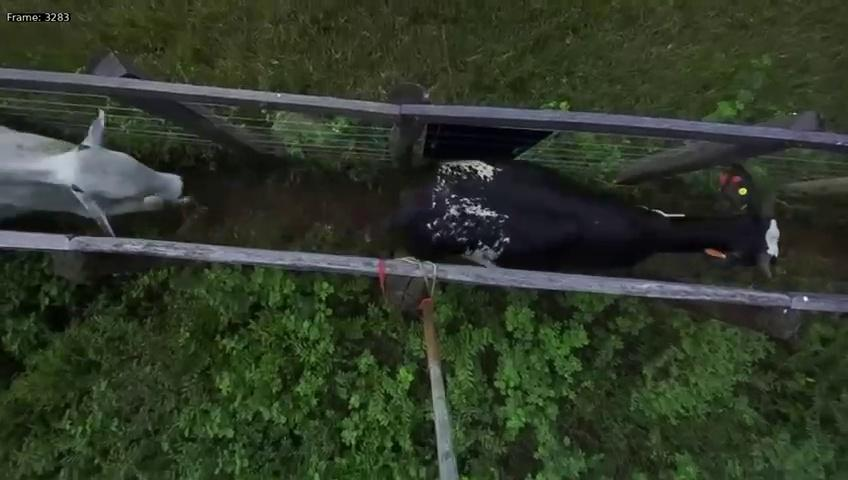cattle: (414, 146, 807, 290)
